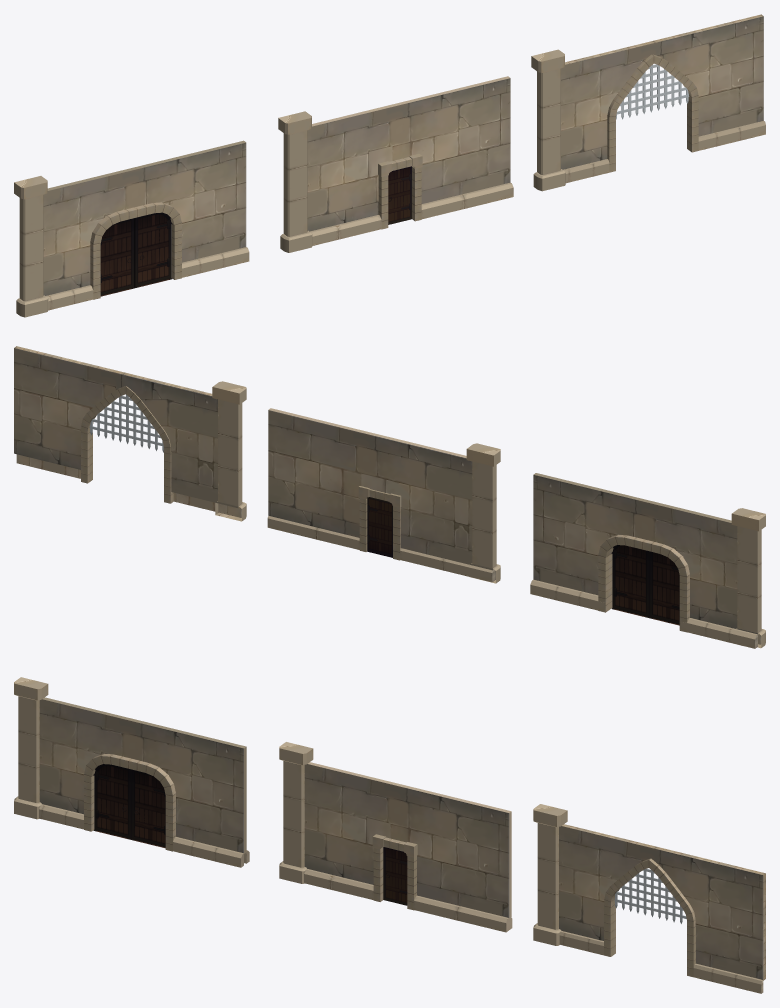
File: Tembok_Pintu.fbx
3 renders of one model, top to bottom at view 1: azimuth 30°, elevation 25°; view 2: azimuth 150°, elevation 25°; view 3: azimuth 330°, elevation 25°, orthographic.
Parts seen in each view (by area): view 1: Floor.014, Floor.008, Floor.016, Floor.015, Floor.011, Floor.017, Plane.001, Floor.013, Plane, Floor.018, Floor.006, Floor.012 (+3 smaller); view 2: Floor.014, Floor.008, Floor.016, Floor.017, Floor.015, Floor.011, Plane.001, Floor.013, Floor.006, Floor.018, Plane, Cube.002 (+3 smaller); view 3: Floor.014, Floor.008, Floor.016, Floor.017, Floor.015, Floor.011, Floor.013, Plane, Plane.001, Floor.018, Floor.006, Floor.012 (+3 smaller).
Boxes of the visible parts, box(x1,y1,x2,y2) form: Floor.014: box(307, 76, 510, 231); Floor.008: box(43, 140, 246, 295); Floor.016: box(561, 14, 763, 169); Floor.015: box(278, 111, 312, 252); Floor.011: box(14, 176, 48, 317); Floor.017: box(531, 49, 565, 191); Plane.001: box(135, 212, 172, 287); Floor.013: box(310, 182, 513, 245); Plane: box(100, 218, 135, 296); Floor.018: box(607, 54, 698, 172); Floor.006: box(46, 247, 249, 310); Floor.012: box(563, 121, 765, 183); Floor.014: box(268, 408, 493, 570); Floor.008: box(533, 473, 759, 634); Floor.016: box(14, 346, 239, 508); Floor.017: box(212, 381, 246, 521); Floor.015: box(466, 443, 500, 583); Floor.011: box(731, 508, 765, 648); Plane.001: box(611, 545, 648, 617); Floor.013: box(267, 515, 495, 582); Floor.006: box(530, 579, 761, 648); Floor.018: box(81, 386, 173, 503); Plane: box(648, 551, 679, 625); Cube.002: box(89, 394, 163, 452); Floor.014: box(304, 762, 511, 917); Floor.008: box(39, 697, 246, 853); Floor.016: box(559, 824, 765, 980); Floor.017: box(533, 804, 567, 945); Floor.015: box(279, 742, 313, 883); Floor.011: box(14, 677, 48, 819); Floor.013: box(304, 869, 512, 932); Plane: box(93, 764, 130, 839); Plane.001: box(130, 769, 165, 848); Floor.018: box(604, 858, 695, 977); Floor.006: box(39, 804, 249, 867); Floor.012: box(559, 931, 763, 993).
Bounding box in the file's own units: 3340 × 555 × 72.94.
Materials: 1 (1 with a texture image).
